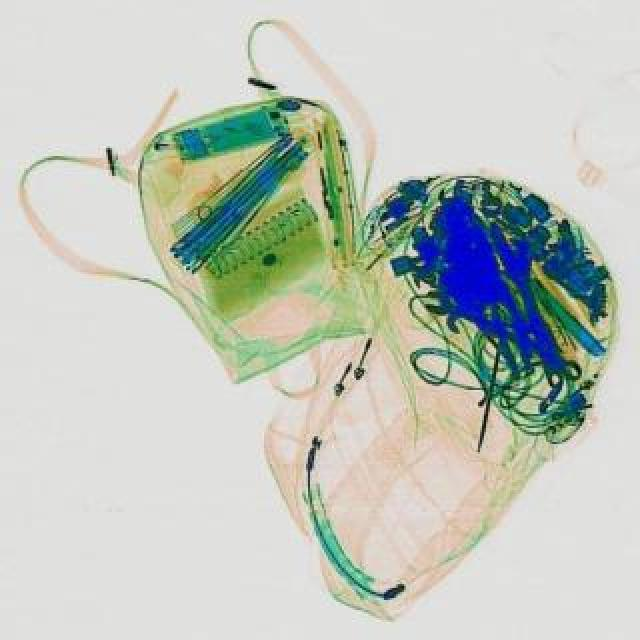scissors: (418, 290, 586, 386), (484, 220, 572, 396)
